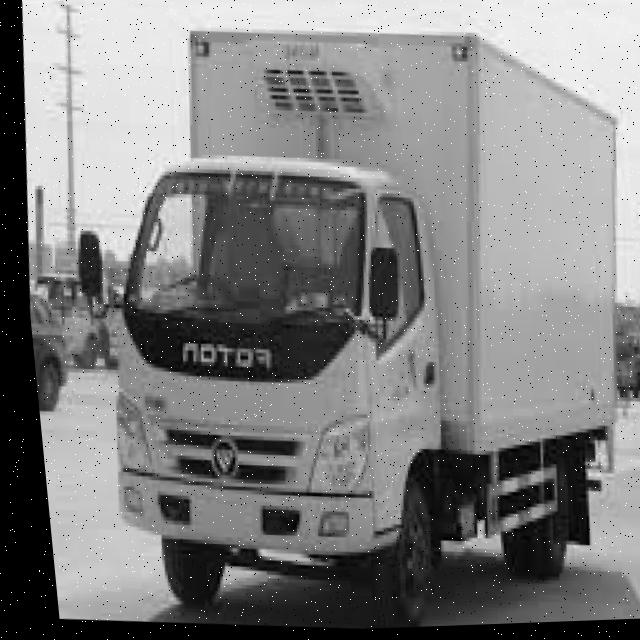truck: (17, 102, 506, 640)
